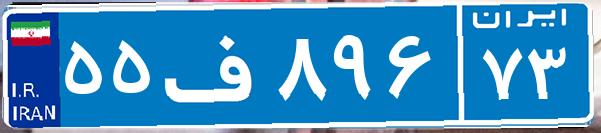3: (525, 38, 570, 115)
5: (57, 26, 110, 107), (110, 28, 158, 105)
6: (385, 28, 445, 110)
7: (475, 38, 525, 113)
8: (273, 28, 330, 110)
9: (330, 28, 385, 110)
ف: (158, 15, 273, 115)
